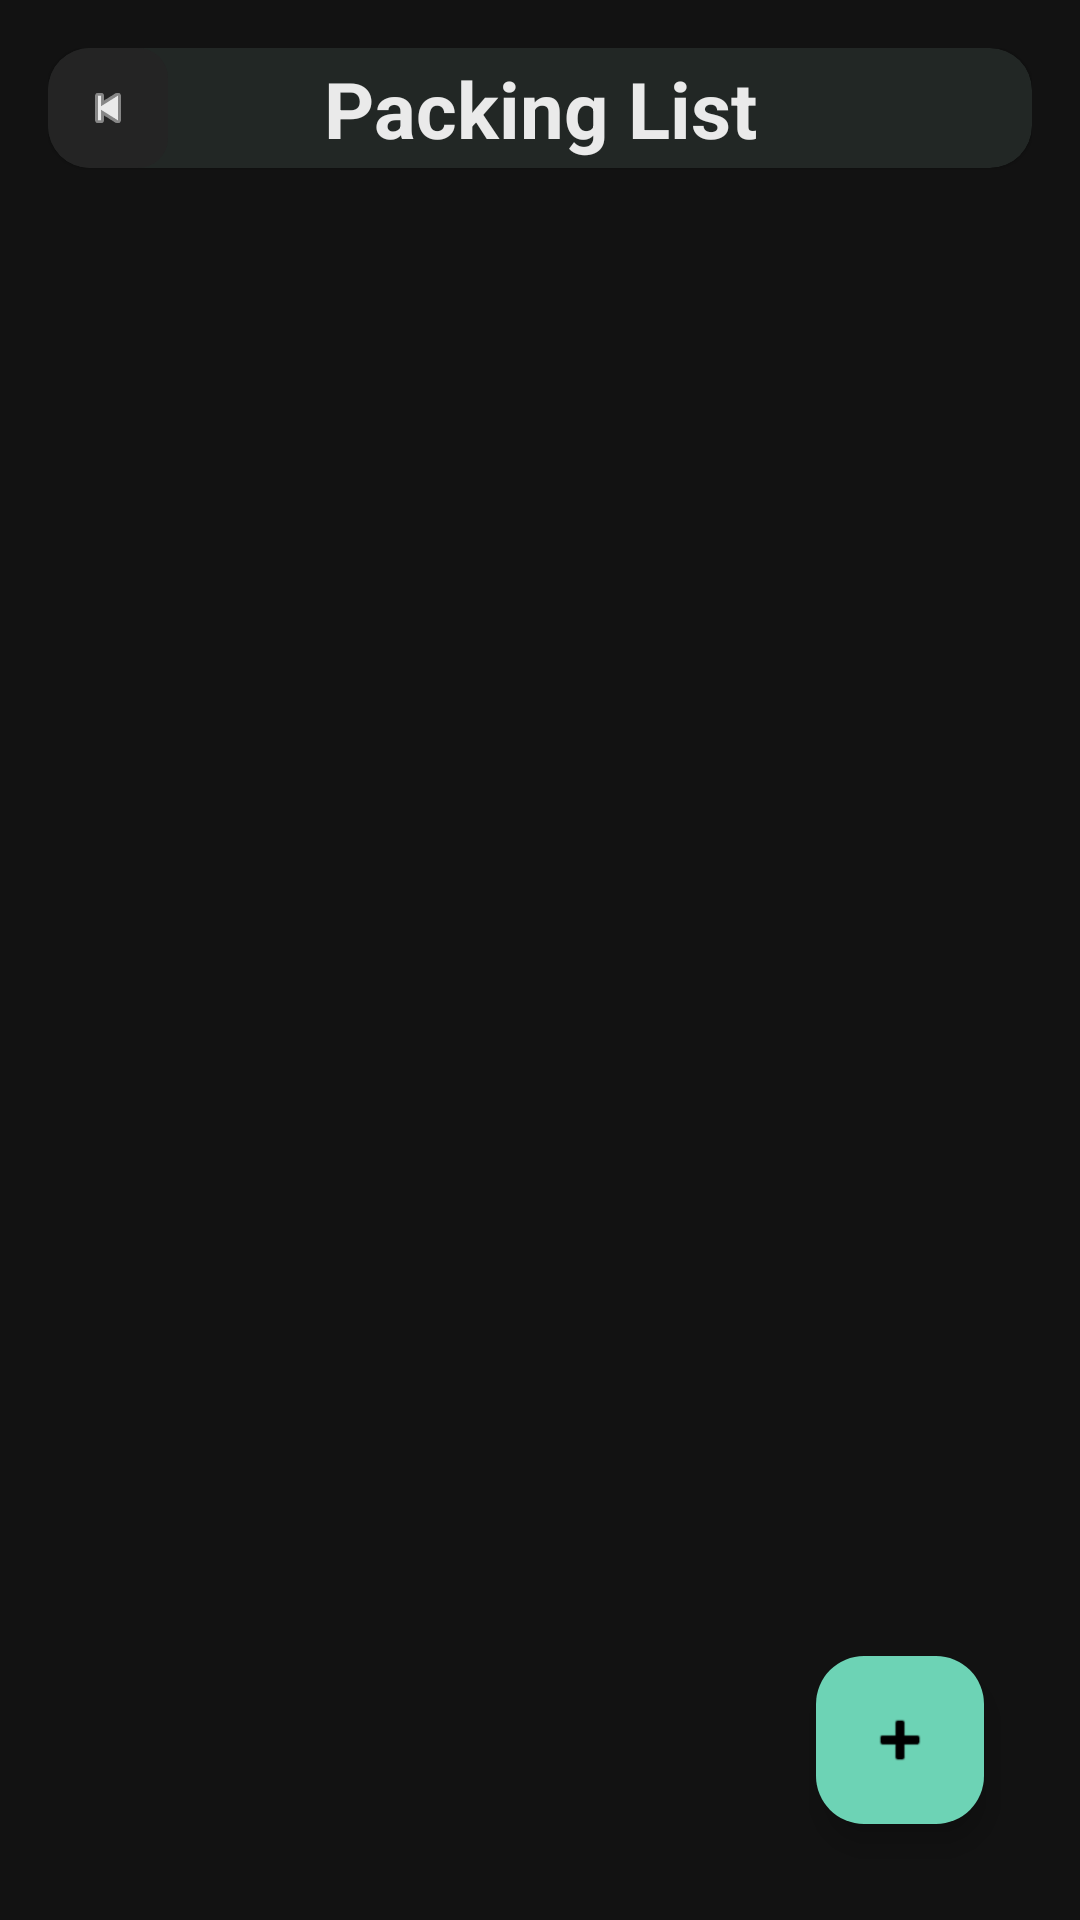

Named icons in this screenshot (1080w x 1920h) and their centers, (x=x, y=y):
Add checklist item: (x=900, y=1740)
previous: (x=108, y=108)
